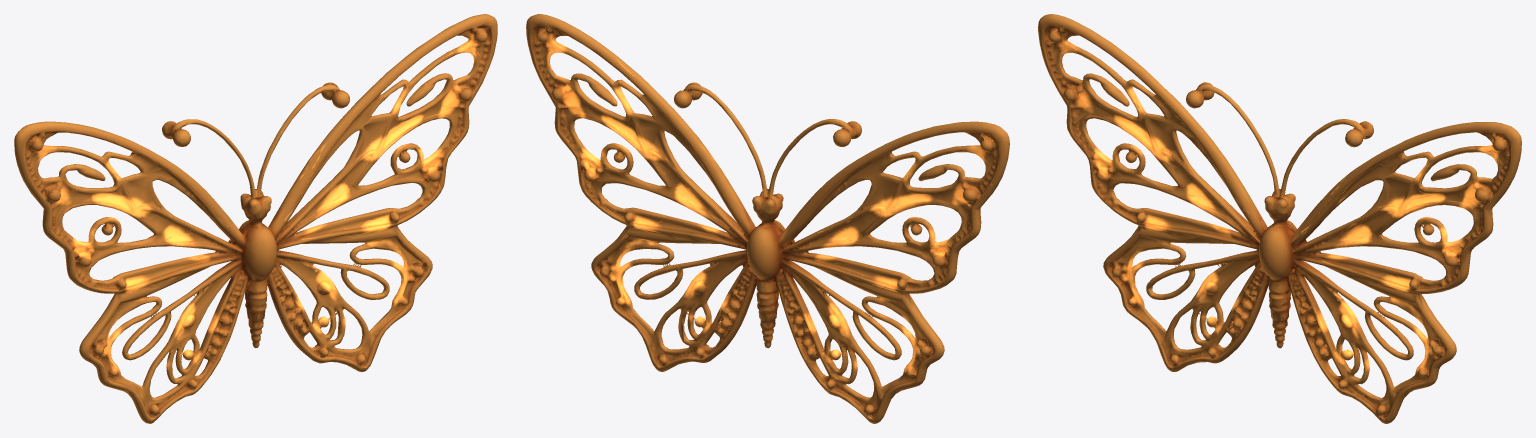
File: ee_butterfly.glb
The picture shows the model from 3 angles, left to right: view 1: azimuth 30°, elevation 25°; view 2: azimuth 150°, elevation 25°; view 3: azimuth 330°, elevation 25°; orthographic projection.
Bounding box in the file's own units: 1.91 × 1.24 × 0.1729.
Materials: 1 (1 with a texture image).
